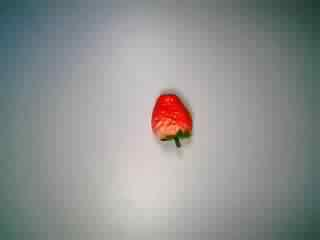strawberry: (144, 87, 203, 156)
